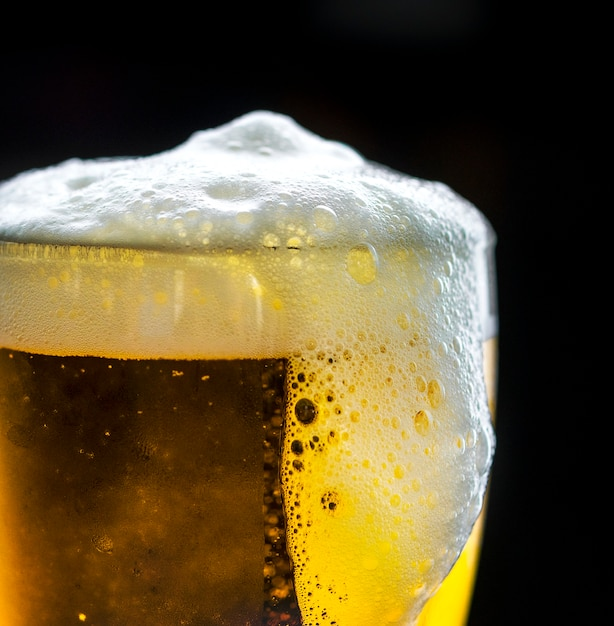alcohol: (0, 111, 501, 626)
